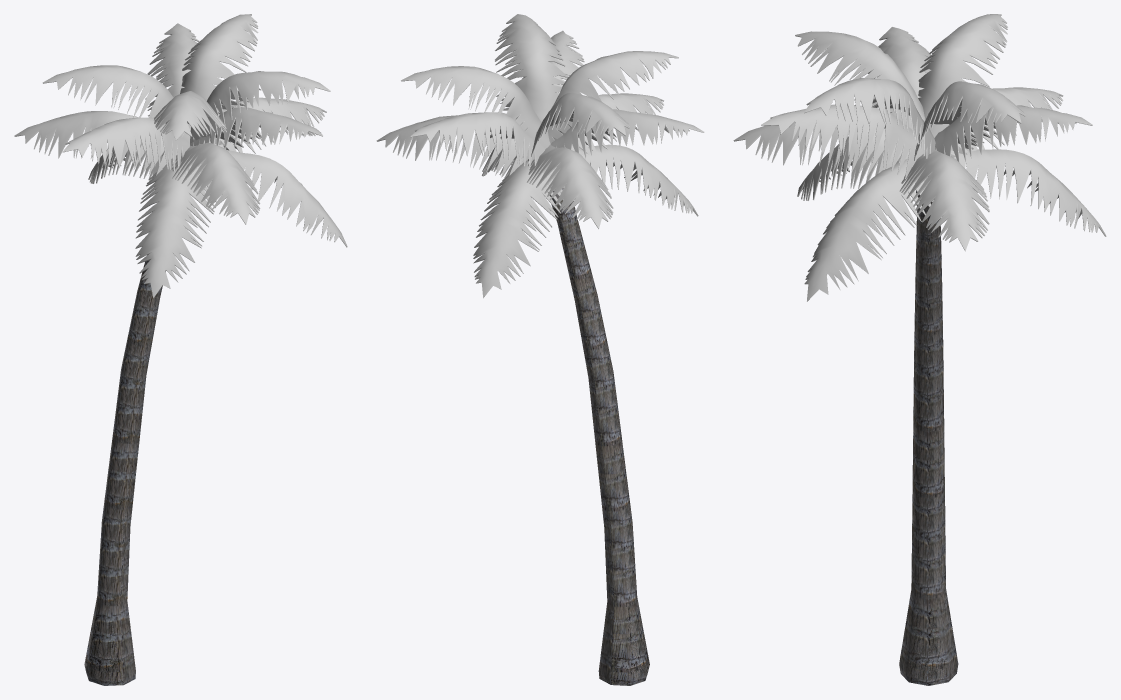
The model's file is m_palm_tree.fbx.
3 views of the same model, side by side, from view 1: azimuth 30°, elevation 25°; view 2: azimuth 150°, elevation 25°; view 3: azimuth 270°, elevation 25° (orthographic). The views are drawn at different scales.
Visible parts, largest first — view 1: palm_leaves, palm_trunk; view 2: palm_leaves, palm_trunk; view 3: palm_leaves, palm_trunk.
Part boxes in pixels (box(x1,y1,x2,y2)): palm_leaves: box(14, 14, 347, 297); palm_trunk: box(84, 254, 166, 685); palm_leaves: box(376, 14, 704, 297); palm_trunk: box(549, 188, 649, 685); palm_leaves: box(733, 14, 1106, 301); palm_trunk: box(899, 191, 958, 685).
Bounding box in the file's own units: 1193 × 2285 × 1169.
